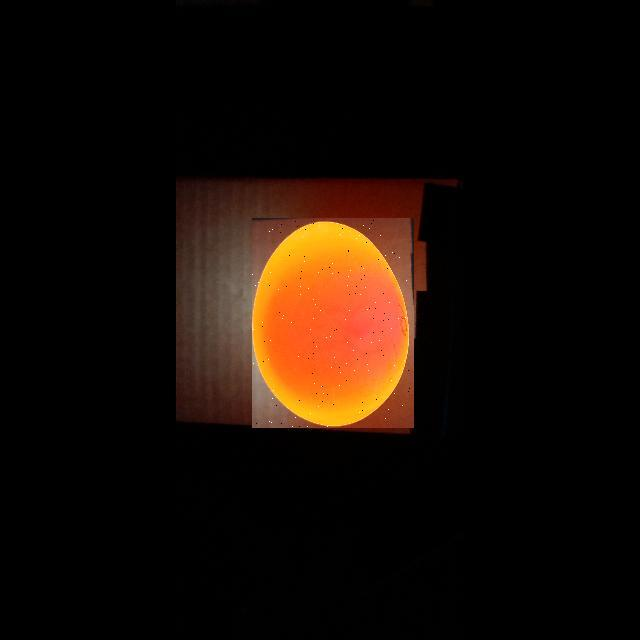Fertile: (252, 218, 414, 428)
